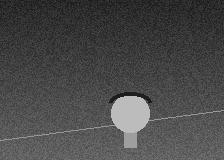no_helmet: (111, 92, 149, 137)
